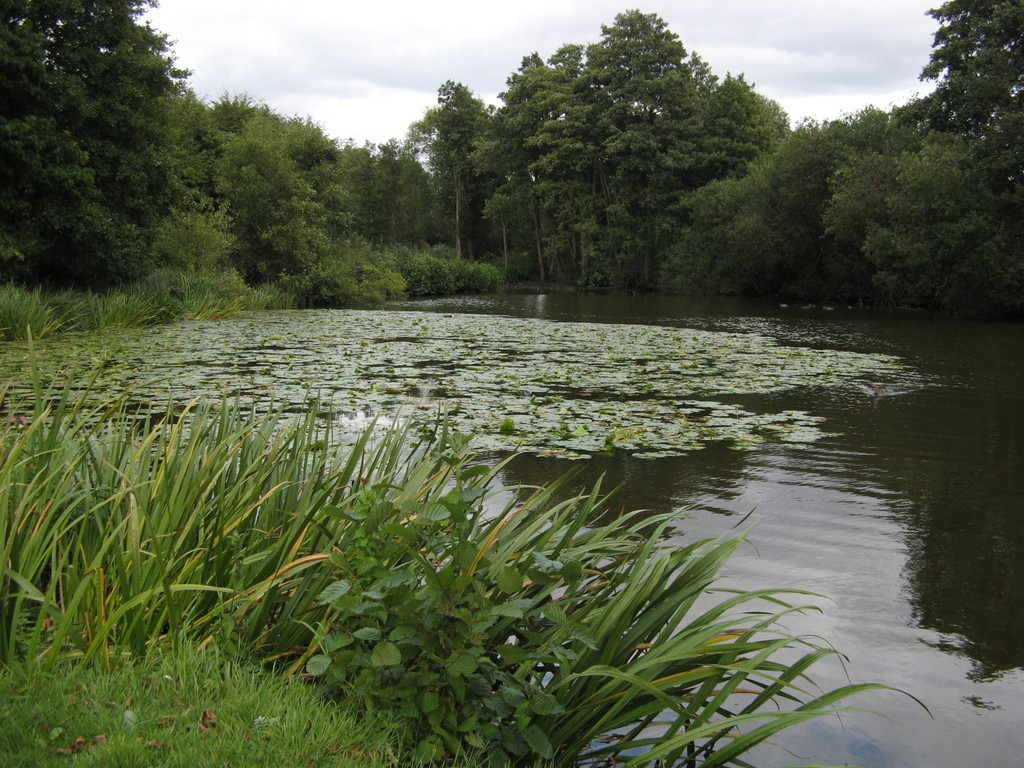Tree: (0, 0, 1024, 315)
